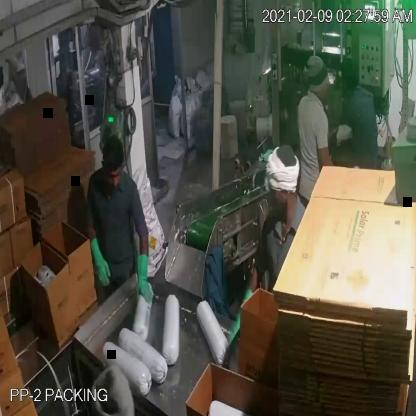glove: (83, 231, 114, 294), (128, 244, 156, 310)
